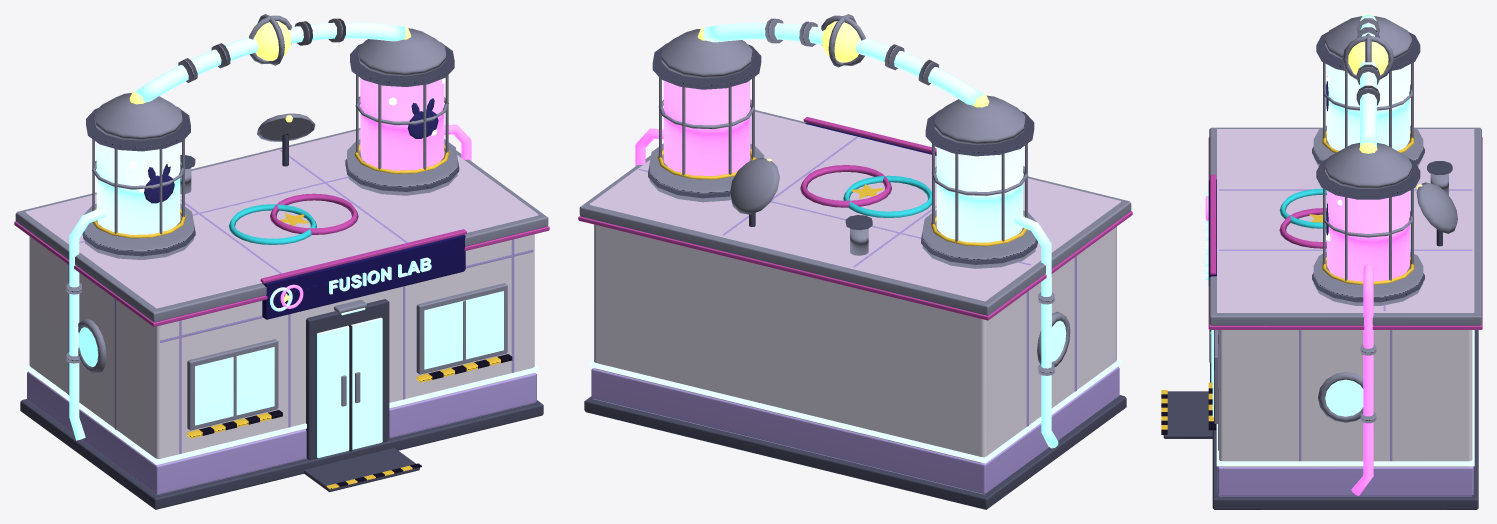
Rendered from fusion_lab.glb.
3 views of the same model, side by side, from view 1: azimuth 30°, elevation 25°; view 2: azimuth 150°, elevation 25°; view 3: azimuth 270°, elevation 25° (orthographic). The views are drawn at different scales.
Visible parts, largest first — view 1: Body, Roof, Sign; view 2: Body, Roof, Sign; view 3: Body, Roof, Sign.
Boxes of the visible parts, x1,y1,x2,y2 form: Body: [14, 128, 549, 509]; Roof: [66, 14, 471, 440]; Sign: [260, 229, 466, 319]; Body: [578, 108, 1132, 509]; Roof: [635, 14, 1058, 448]; Sign: [803, 117, 936, 155]; Body: [1161, 127, 1482, 509]; Roof: [1279, 14, 1457, 495]; Sign: [1205, 174, 1216, 285].
Size of the model in its own units: 7.07 by 6.49 by 4.95.
